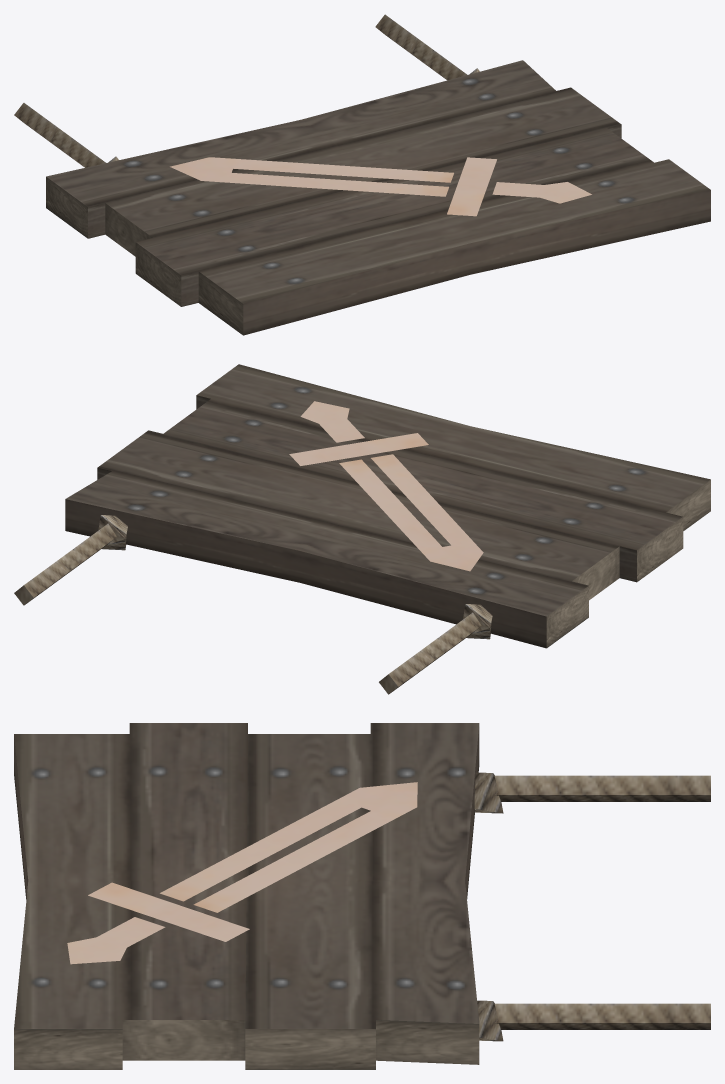
The model's file is Sign_Weapon.fbx.
3 views of the same model, one above another, from view 1: azimuth 30°, elevation 25°; view 2: azimuth 150°, elevation 25°; view 3: azimuth 270°, elevation 25° (orthographic). The views are drawn at different scales.
Parts seen in each view (by area): view 1: Sign_Weapon; view 2: Sign_Weapon; view 3: Sign_Weapon.
Part boxes in pixels (<box>): Sign_Weapon: <box>14,14,710,335</box>; Sign_Weapon: <box>14,364,710,694</box>; Sign_Weapon: <box>14,723,710,1069</box>.
Size of the model in its own units: 1.9 by 0.1603 by 1.83.
